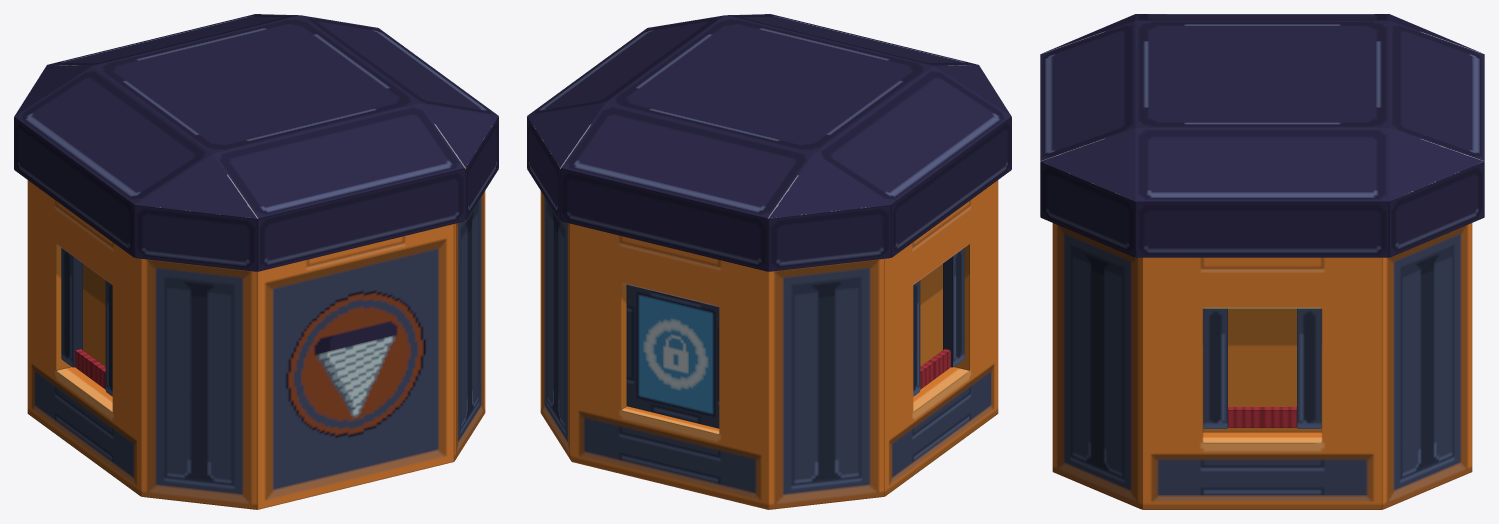
The model's file is Crate.fbx.
The picture shows the model from 3 angles, left to right: view 1: azimuth 30°, elevation 25°; view 2: azimuth 150°, elevation 25°; view 3: azimuth 270°, elevation 25°; orthographic projection. The views are drawn at different scales.
Visible parts, largest first — view 1: beveled_cuboid, beveled_cuboid_1, cuboid_2, cuboid, cuboid_4; view 2: beveled_cuboid, beveled_cuboid_1, cuboid, cuboid_2, cuboid_4; view 3: beveled_cuboid_1, beveled_cuboid, cuboid_1, cuboid_3, cuboid_5.
Boxes of the visible parts, x1,y1,x2,y2 form: beveled_cuboid: [27, 168, 485, 509]; beveled_cuboid_1: [14, 14, 498, 271]; cuboid_2: [61, 248, 82, 367]; cuboid: [105, 280, 112, 396]; cuboid_4: [75, 349, 105, 389]; beveled_cuboid: [540, 168, 998, 509]; beveled_cuboid_1: [527, 14, 1011, 271]; cuboid: [943, 248, 964, 367]; cuboid_2: [913, 280, 920, 396]; cuboid_4: [920, 349, 950, 389]; beveled_cuboid_1: [1040, 14, 1484, 257]; beveled_cuboid: [1052, 223, 1472, 509]; cuboid_1: [1297, 308, 1321, 428]; cuboid_3: [1203, 308, 1227, 428]; cuboid_5: [1228, 407, 1296, 427].
Size of the model in its own units: 225 by 194 by 225.
Materials: 1 (1 with a texture image).
